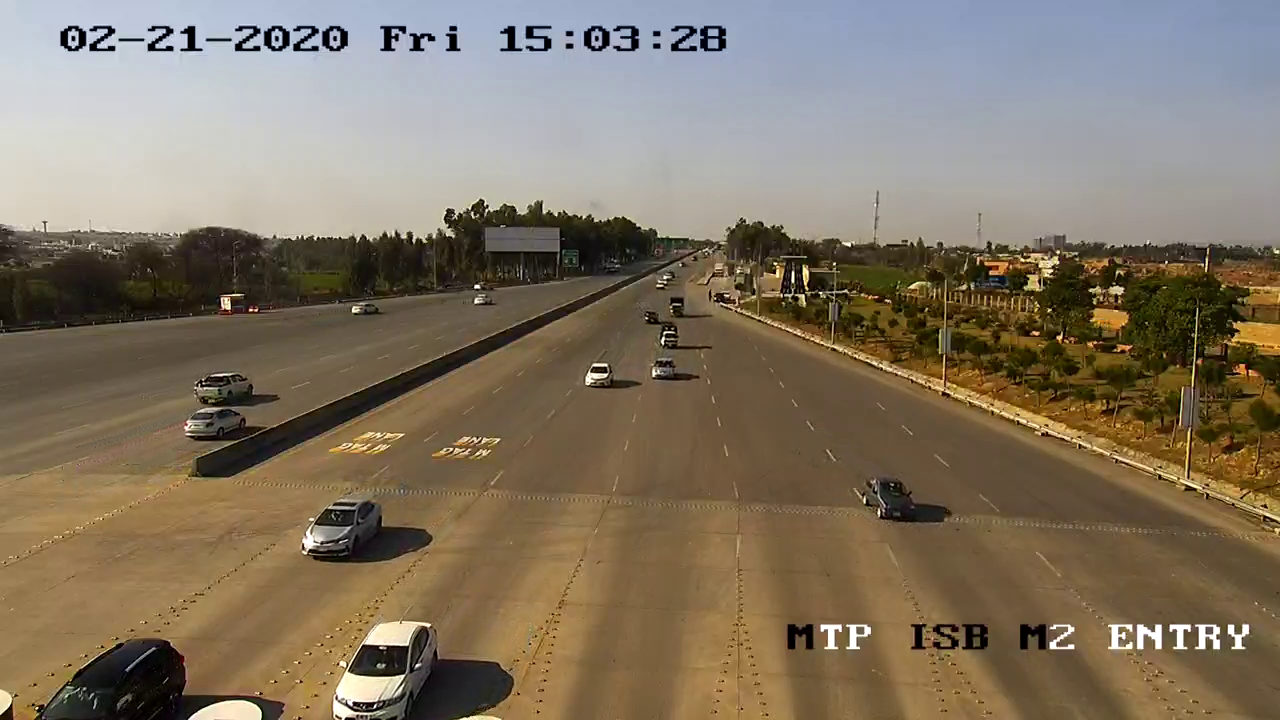f1: (325, 614, 445, 720), (292, 488, 392, 569), (854, 469, 925, 532)
